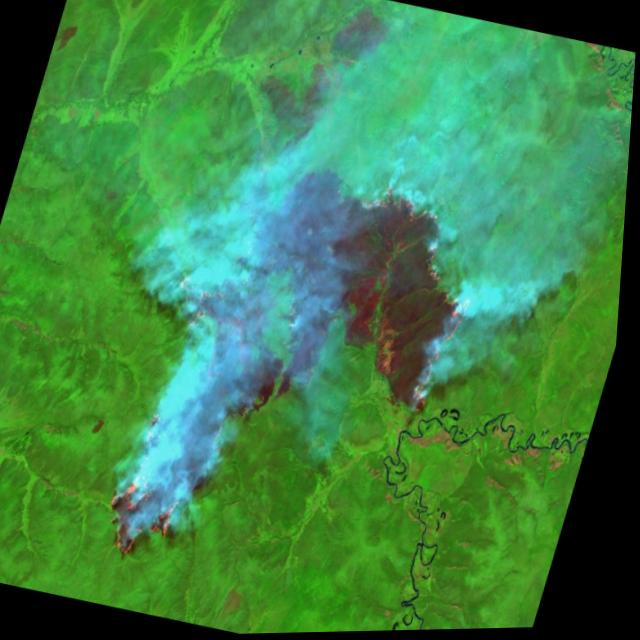fire: (77, 256, 252, 572), (300, 173, 504, 427)
